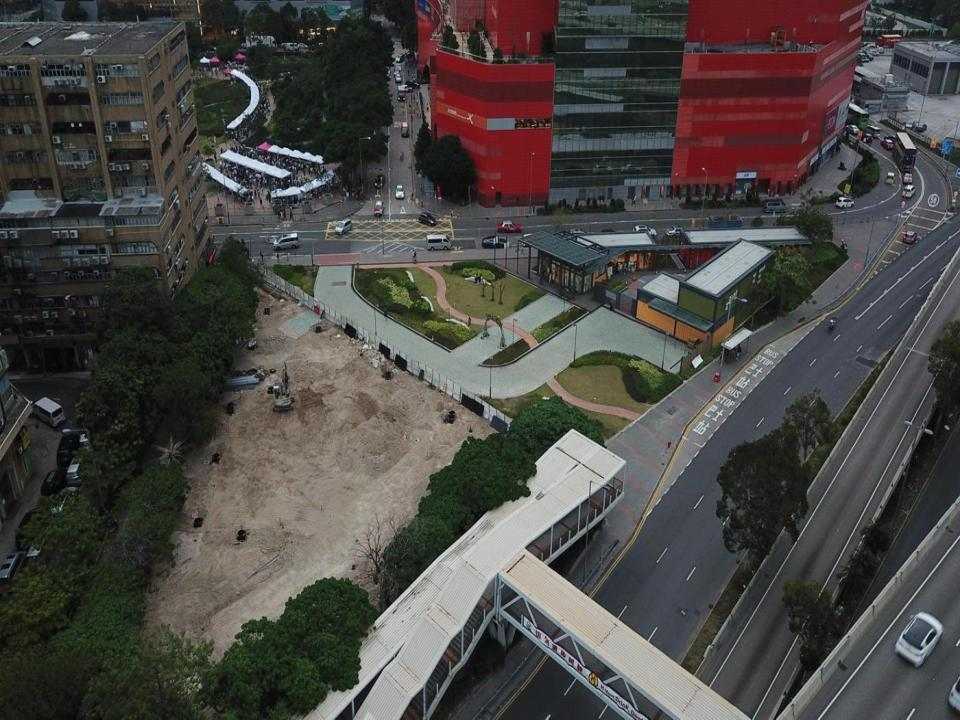bus: (895, 126, 917, 165), (841, 100, 869, 128)
car: (895, 611, 944, 667), (272, 231, 300, 250), (631, 223, 656, 238), (496, 219, 521, 233), (600, 226, 625, 240), (481, 234, 505, 248), (334, 216, 352, 234), (565, 225, 588, 238), (902, 228, 918, 246), (665, 224, 686, 237), (836, 195, 854, 208), (880, 136, 894, 149), (374, 199, 384, 216), (903, 185, 916, 198), (883, 134, 897, 146), (916, 120, 929, 132), (904, 117, 915, 131), (845, 124, 859, 134), (396, 183, 404, 198), (375, 174, 383, 188), (861, 132, 872, 142), (904, 173, 913, 182)
truck: (244, 32, 276, 48), (398, 85, 405, 102)
van: (28, 396, 64, 425), (54, 430, 76, 463), (40, 470, 62, 496), (763, 196, 788, 214), (425, 235, 452, 250), (866, 123, 880, 136), (400, 121, 410, 138), (885, 170, 896, 185)
